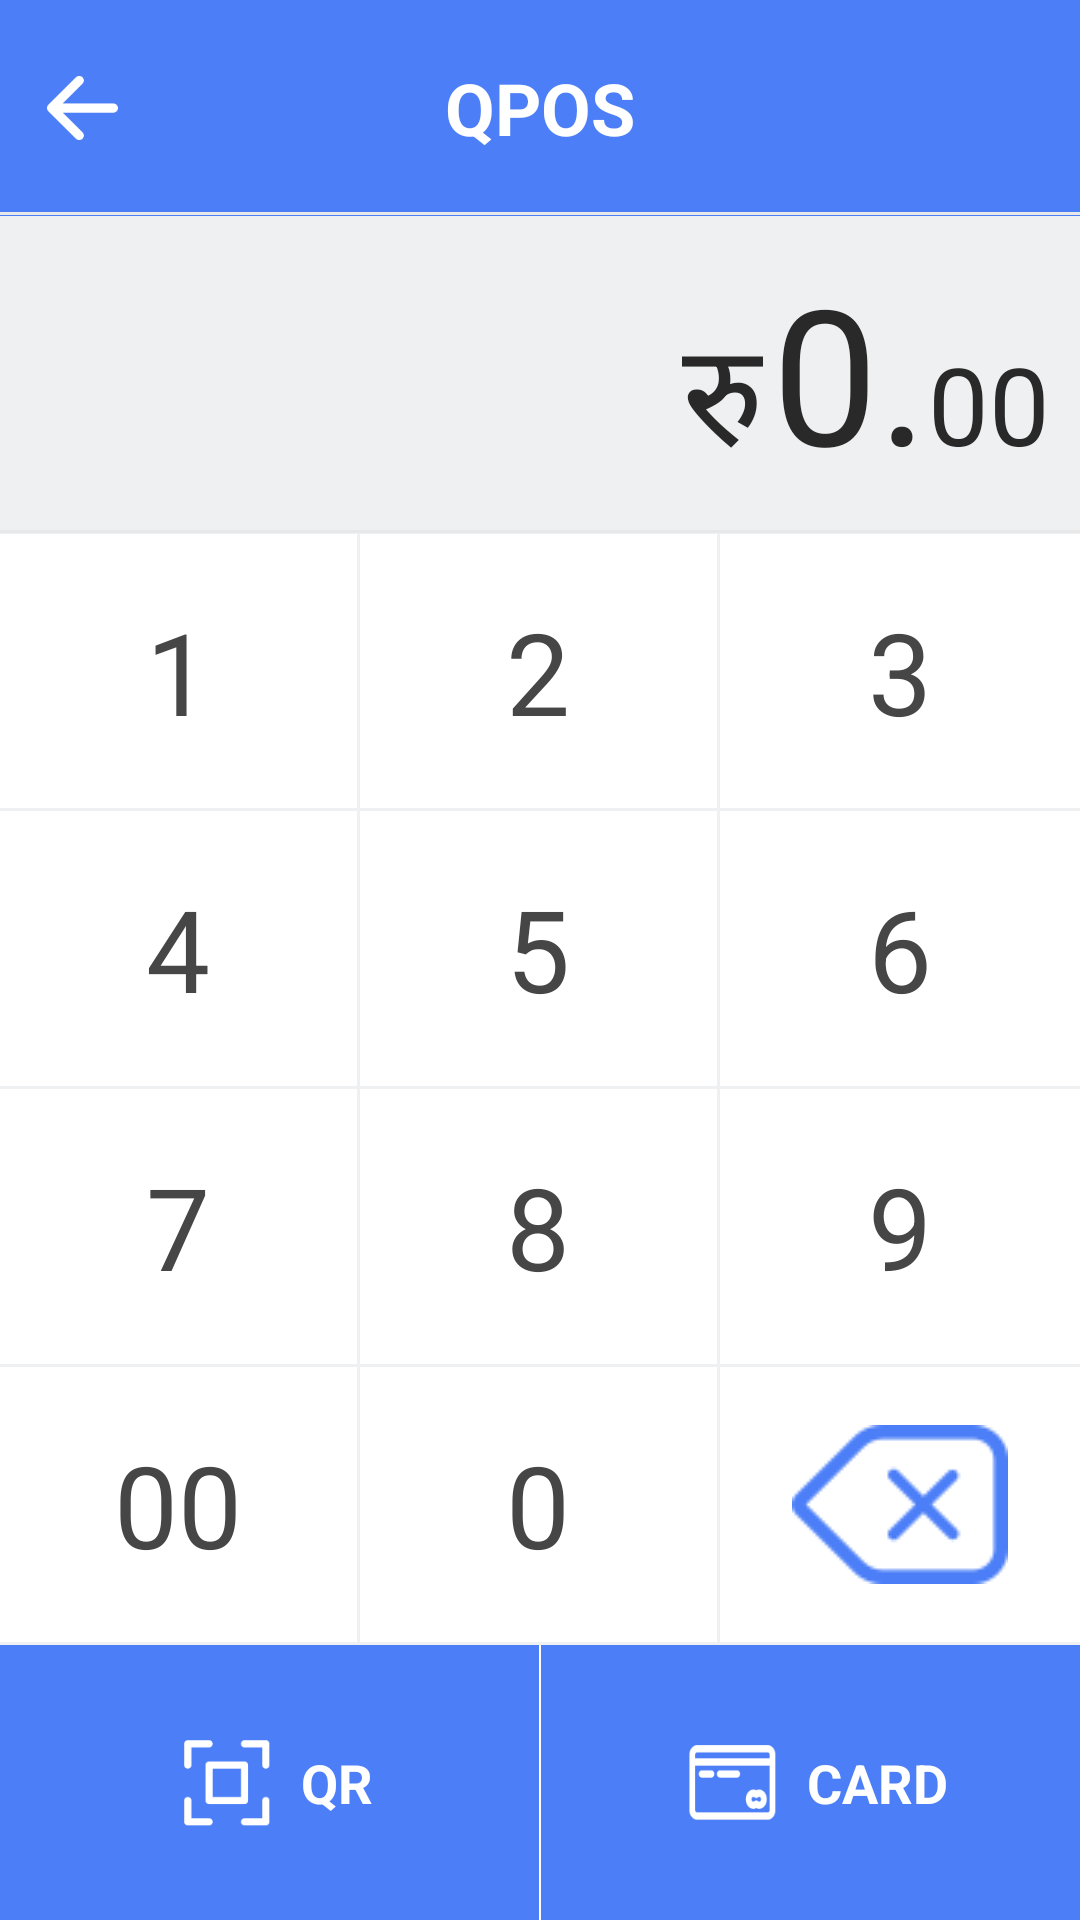

Named icons in this screenshot (1080x1920) and their bounding boxes, (x1, y1, x2, y2):
back: (47, 76, 118, 140)
delete: (792, 1425, 1008, 1584)
qr pay: (184, 1740, 270, 1826)
